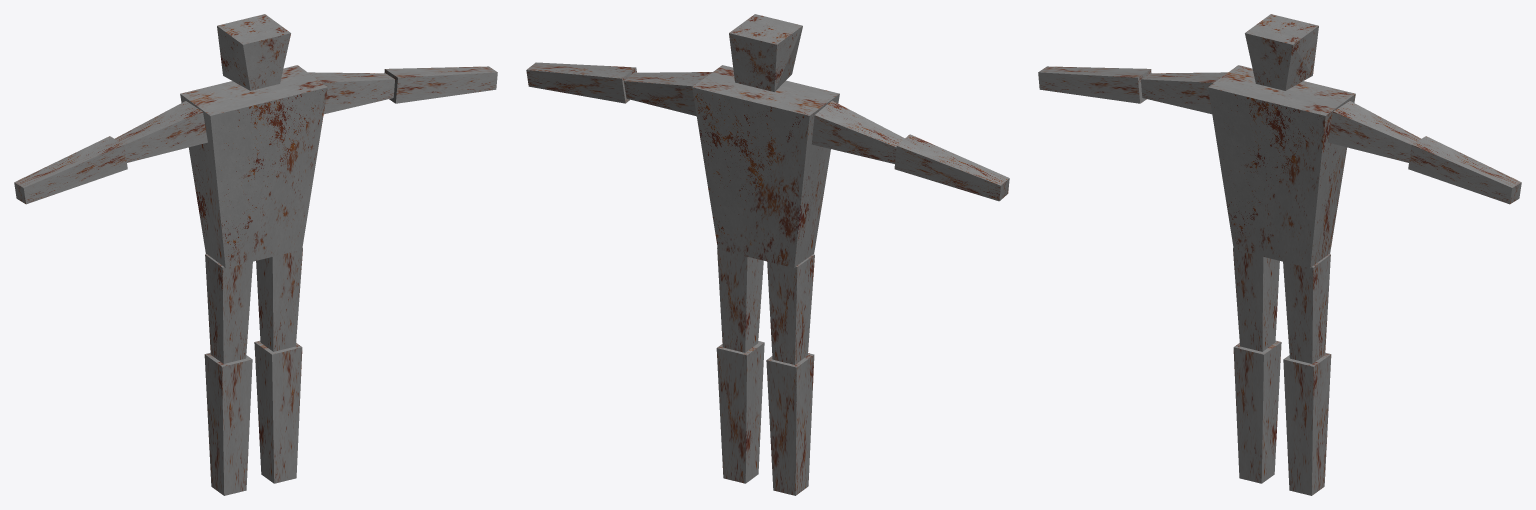
Rendered from man.obj.
3 renders of one model, left to right at view 1: azimuth 30°, elevation 25°; view 2: azimuth 150°, elevation 25°; view 3: azimuth 330°, elevation 25°, orthographic.
Visible parts, largest first — view 1: torso, calves, thighs, forearms, biceps, head; view 2: torso, calves, thighs, forearms, biceps, head; view 3: torso, calves, thighs, forearms, biceps, head.
Part boxes in pixels (x1,y1,x2,y2): torso: (180, 65, 327, 268); calves: (204, 340, 302, 495); thighs: (205, 248, 302, 363); forearms: (14, 66, 497, 204); biceps: (115, 72, 394, 162); head: (217, 14, 290, 90); torso: (692, 65, 839, 267); calves: (716, 341, 814, 495); thighs: (717, 247, 814, 364); forearms: (526, 62, 1009, 201); biceps: (624, 72, 904, 163); head: (729, 14, 802, 91); torso: (1208, 65, 1355, 268); calves: (1233, 340, 1331, 495); thighs: (1233, 248, 1330, 363); forearms: (1038, 66, 1521, 204); biceps: (1141, 72, 1420, 162); head: (1245, 14, 1318, 90).
Bounding box in the file's own units: 8.08 × 7.37 × 0.8944.
